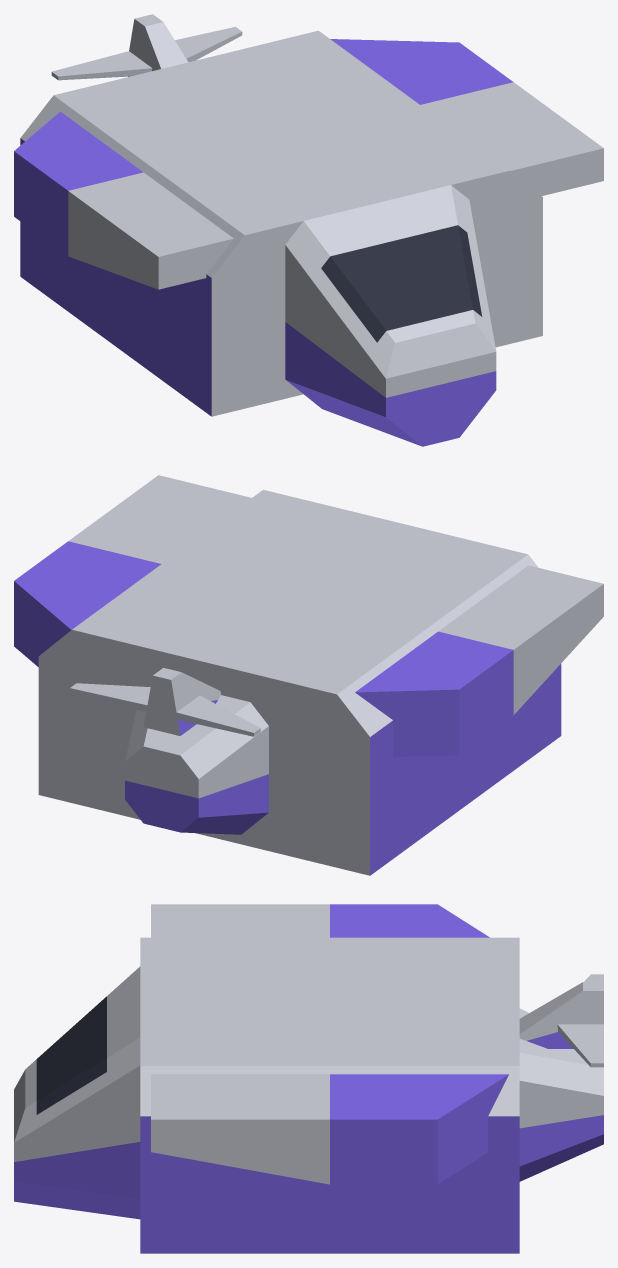
Rendered from Carrier.fbx.
The picture shows the model from 3 angles, top to bottom: view 1: azimuth 30°, elevation 25°; view 2: azimuth 150°, elevation 25°; view 3: azimuth 270°, elevation 25°; orthographic projection.
Parts seen in each view (by area): view 1: mergedBlocks; view 2: mergedBlocks; view 3: mergedBlocks.
Boxes of the visible parts, bbox=[...] form: mergedBlocks: bbox=[14, 14, 603, 446]; mergedBlocks: bbox=[14, 475, 603, 875]; mergedBlocks: bbox=[14, 904, 603, 1253].
Bounding box in the file's own units: 42.35 × 18.9 × 49.
